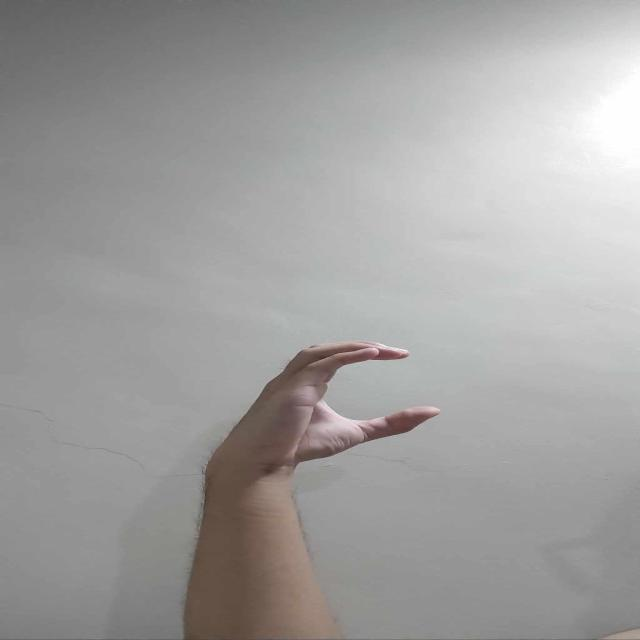C: (206, 338, 442, 472)
